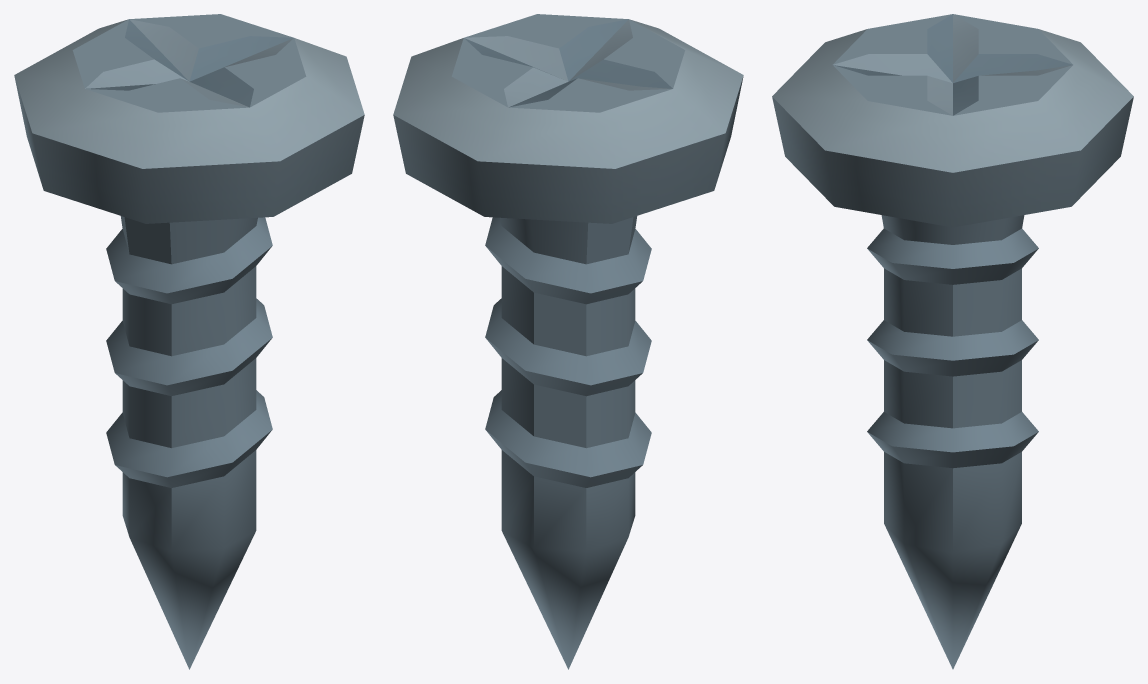
The model's file is screw_B.glb.
3 renders of one model, left to right at view 1: azimuth 30°, elevation 25°; view 2: azimuth 150°, elevation 25°; view 3: azimuth 270°, elevation 25°, orthographic.
Visible parts, largest first — view 1: screw_B; view 2: screw_B; view 3: screw_B.
Part boxes in pixels (<box>): screw_B: <box>14,14,364,669</box>; screw_B: <box>393,14,743,669</box>; screw_B: <box>772,14,1133,669</box>.
Bounding box in the file's own units: 0.1589 × 0.2931 × 0.1589.
1 material, 1 textured.
